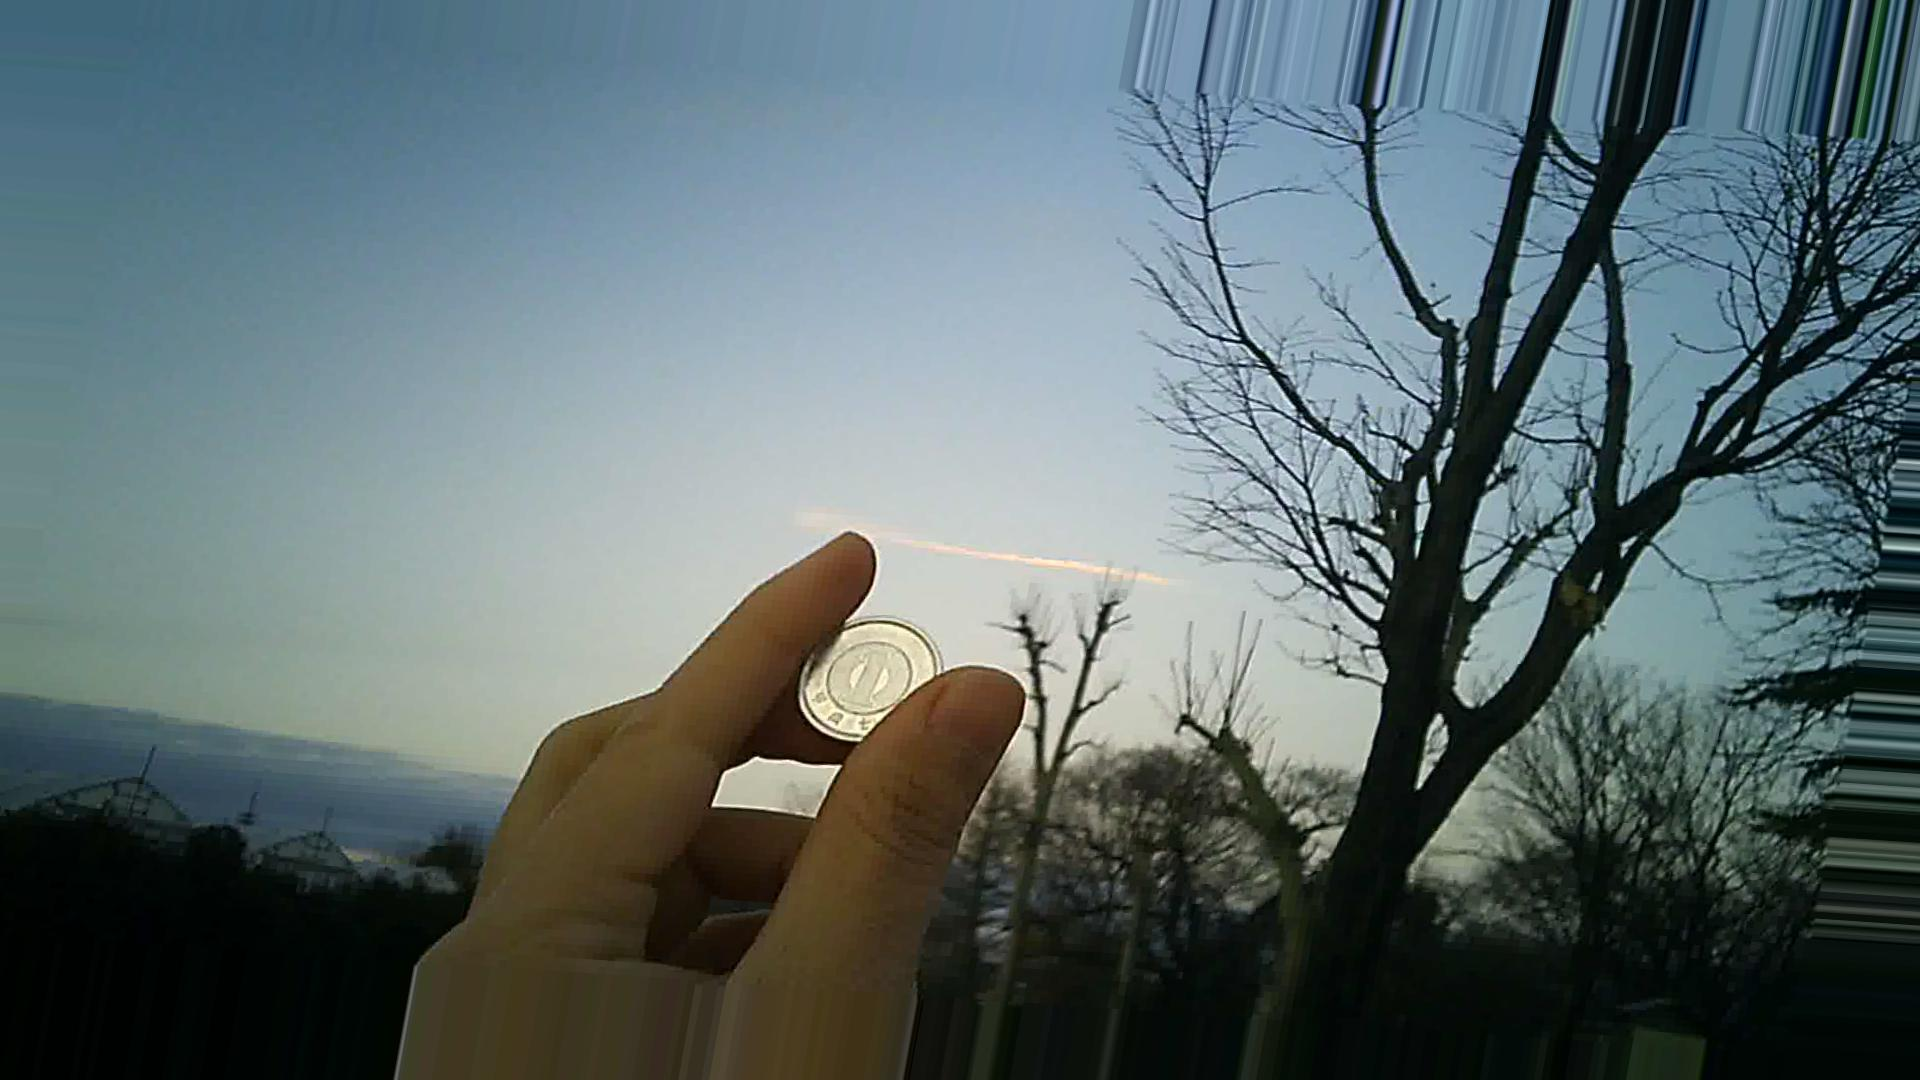1 Yen: (796, 601, 953, 736)
